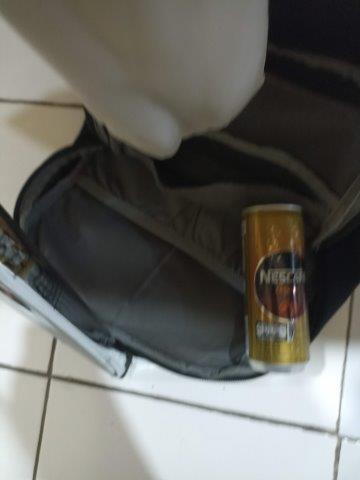kaleng: (241, 203, 310, 374)
